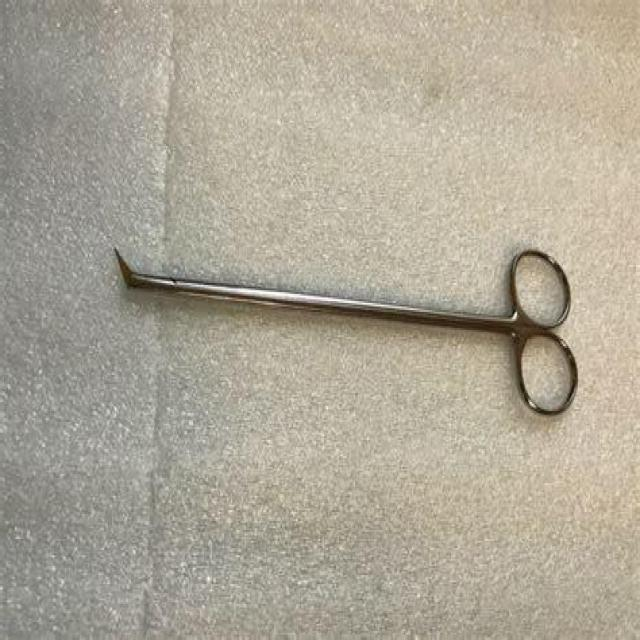Potts: (112, 242, 581, 420)
